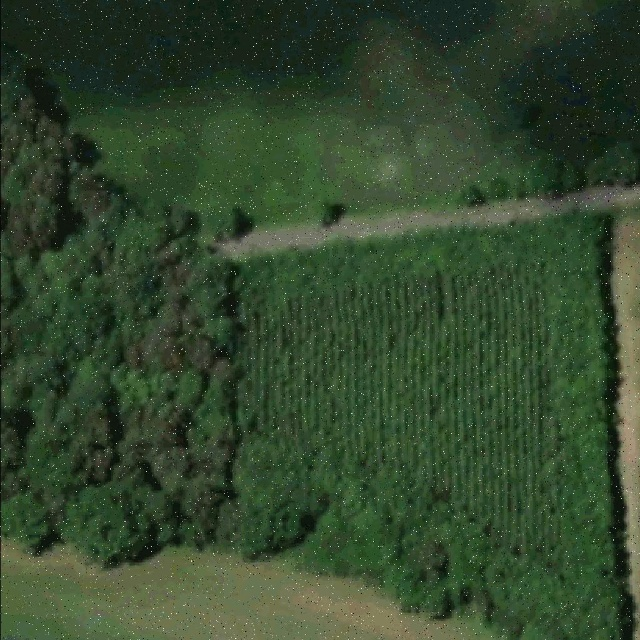vegetation: (0, 50, 630, 640)
